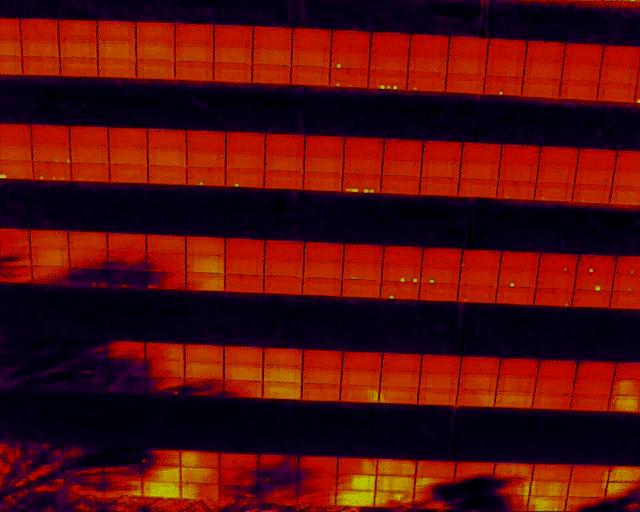Cell: (484, 76, 522, 96), (407, 73, 446, 92), (187, 167, 225, 186), (577, 255, 615, 274), (225, 169, 264, 187), (535, 289, 573, 307), (458, 284, 496, 302), (331, 50, 369, 68), (539, 253, 577, 271), (380, 282, 419, 299), (498, 269, 537, 286), (575, 274, 613, 291), (421, 268, 459, 285), (462, 250, 500, 267), (343, 263, 382, 279)
Cell-Multi: (330, 68, 368, 87), (369, 71, 407, 89), (33, 162, 71, 180), (146, 377, 185, 394), (32, 144, 69, 161), (381, 266, 420, 282)
No-Anomaly: (20, 18, 59, 41), (305, 136, 344, 158), (332, 31, 371, 52), (293, 29, 332, 50), (344, 138, 383, 159), (265, 134, 304, 155), (384, 246, 422, 267), (446, 74, 485, 94), (539, 147, 578, 167), (422, 141, 461, 161), (96, 21, 135, 41), (22, 55, 61, 75), (562, 61, 601, 81), (449, 37, 488, 57), (599, 63, 638, 83), (291, 65, 330, 85), (252, 64, 291, 84), (560, 80, 598, 100), (371, 32, 409, 52), (303, 349, 343, 368), (215, 26, 253, 46), (253, 27, 291, 47), (462, 142, 500, 162), (569, 464, 611, 482), (597, 83, 636, 102), (226, 132, 265, 151), (187, 131, 226, 150), (108, 128, 147, 147), (501, 145, 540, 164), (175, 24, 214, 43), (31, 124, 70, 143), (370, 53, 409, 72), (422, 248, 461, 267), (420, 177, 459, 196), (109, 164, 148, 183), (71, 163, 110, 182), (148, 165, 187, 184), (265, 170, 304, 189), (572, 184, 611, 203), (497, 180, 536, 199), (69, 231, 108, 250), (535, 182, 572, 202), (488, 38, 525, 58), (522, 78, 560, 97), (384, 140, 422, 159), (411, 35, 449, 54), (59, 20, 97, 39), (578, 148, 616, 167), (214, 63, 252, 82), (29, 230, 67, 249), (60, 57, 98, 76), (409, 54, 447, 73), (175, 61, 213, 80), (459, 179, 497, 198), (186, 273, 224, 292), (136, 41, 174, 60), (186, 254, 224, 273), (59, 39, 97, 58), (382, 352, 422, 370), (144, 342, 184, 360), (536, 359, 576, 377), (499, 358, 539, 376), (342, 352, 382, 370), (303, 172, 343, 190), (146, 235, 186, 253), (532, 462, 572, 480), (136, 23, 173, 42), (448, 56, 485, 75), (602, 46, 639, 65), (70, 126, 109, 144), (263, 381, 302, 399), (224, 346, 263, 364), (340, 385, 379, 403), (263, 348, 302, 366), (421, 355, 460, 373), (460, 356, 499, 374), (184, 344, 223, 362), (187, 150, 226, 168), (147, 130, 186, 148), (486, 58, 525, 76), (98, 59, 137, 77), (524, 60, 563, 78), (526, 41, 565, 59), (175, 44, 214, 62), (344, 245, 383, 263), (575, 167, 614, 185), (225, 238, 264, 256), (338, 457, 377, 475), (225, 257, 264, 275), (20, 39, 59, 57), (70, 145, 108, 163), (225, 275, 263, 293), (136, 60, 174, 78), (253, 47, 291, 65), (214, 46, 252, 64), (495, 463, 533, 481), (264, 276, 302, 294), (305, 243, 343, 261), (381, 176, 419, 194), (265, 240, 303, 258), (186, 237, 224, 255), (108, 233, 146, 251), (564, 44, 602, 62), (342, 280, 380, 298), (534, 377, 574, 394), (529, 481, 571, 497), (533, 392, 572, 409), (185, 362, 224, 379), (576, 360, 615, 377), (341, 369, 380, 386), (573, 378, 612, 395), (417, 388, 456, 405), (420, 373, 459, 390), (180, 451, 219, 468), (302, 383, 341, 400), (376, 459, 415, 476), (302, 278, 341, 295), (537, 165, 576, 182), (536, 272, 575, 289), (226, 152, 265, 169), (383, 159, 422, 176), (499, 164, 538, 181), (264, 258, 303, 275), (303, 261, 342, 278), (181, 467, 220, 484), (567, 481, 608, 497), (419, 284, 457, 301), (148, 148, 186, 165), (109, 147, 147, 164), (496, 287, 534, 304), (460, 268, 498, 285), (97, 42, 135, 59), (501, 251, 539, 268), (181, 483, 219, 500), (571, 394, 611, 410), (497, 376, 537, 392), (380, 371, 420, 387), (416, 461, 456, 477), (343, 158, 383, 174), (421, 160, 461, 176), (456, 390, 495, 406), (379, 387, 418, 403), (224, 364, 263, 380), (302, 368, 341, 384), (458, 374, 497, 390), (263, 366, 302, 382), (219, 453, 258, 469), (265, 155, 304, 171), (460, 162, 499, 178), (376, 476, 415, 492), (336, 474, 375, 490), (142, 481, 181, 497), (304, 156, 343, 172), (292, 49, 331, 65), (572, 292, 610, 308), (31, 249, 69, 265), (495, 391, 535, 406), (336, 490, 374, 505), (528, 497, 568, 511)
Shadowing: (68, 357, 109, 378), (67, 338, 110, 358), (26, 337, 68, 357), (27, 356, 69, 376), (454, 458, 496, 478), (107, 358, 146, 378), (108, 270, 147, 289), (492, 477, 531, 496), (147, 270, 186, 289), (454, 476, 495, 494), (107, 340, 145, 359), (66, 480, 104, 499), (102, 446, 141, 464), (224, 380, 263, 398), (147, 253, 186, 271), (69, 268, 108, 286), (140, 448, 181, 465), (32, 266, 70, 284), (109, 251, 147, 269), (259, 486, 297, 504), (69, 250, 107, 268), (65, 464, 105, 481), (299, 456, 338, 473), (259, 454, 298, 471), (146, 360, 185, 377), (109, 377, 148, 394), (185, 379, 224, 396), (141, 465, 180, 482), (298, 473, 337, 490), (219, 484, 258, 501), (105, 480, 143, 497), (415, 477, 455, 493), (374, 491, 414, 507), (491, 495, 531, 511), (104, 465, 142, 481), (219, 469, 259, 484), (259, 471, 298, 486), (298, 489, 336, 504), (565, 497, 605, 511)
Unclassified: (341, 173, 380, 192)
